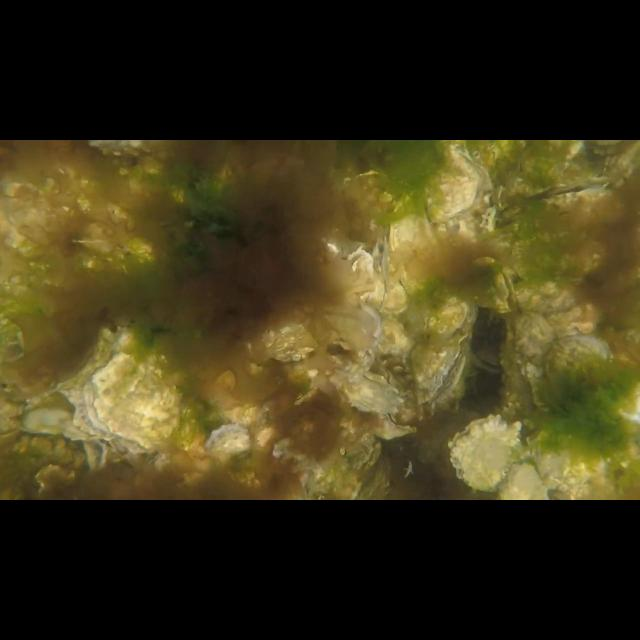Oyster-Closed: (82, 352, 180, 453), (542, 333, 640, 421), (526, 428, 606, 488), (424, 140, 482, 222), (388, 212, 440, 296), (510, 310, 554, 406), (329, 367, 405, 419), (244, 320, 322, 362), (511, 276, 583, 314), (379, 246, 409, 316)
Oyster-Open: (448, 414, 522, 494), (413, 332, 469, 403), (527, 175, 615, 209), (431, 292, 477, 340), (206, 422, 250, 456), (372, 410, 418, 440), (492, 268, 518, 314), (346, 248, 374, 288)
